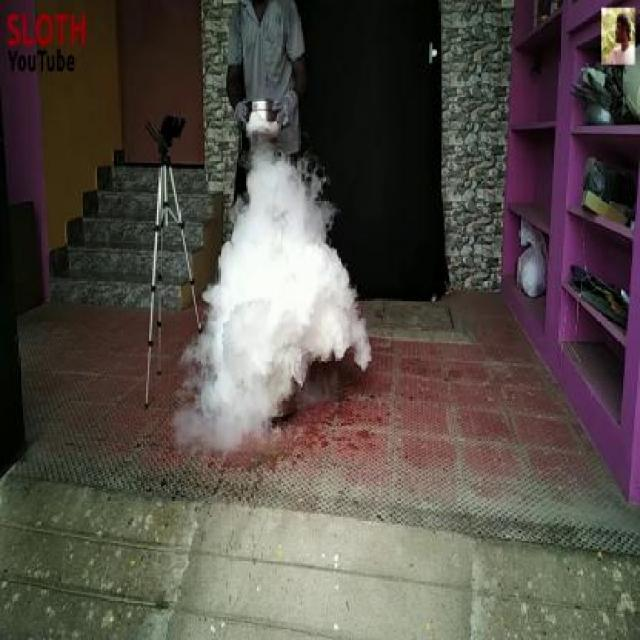smoke: (182, 152, 366, 426)
